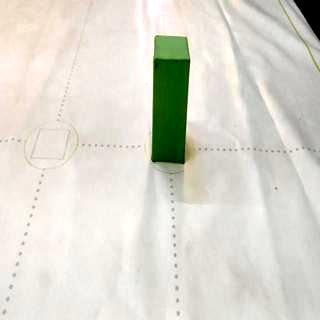greenbox: (149, 32, 192, 165)
